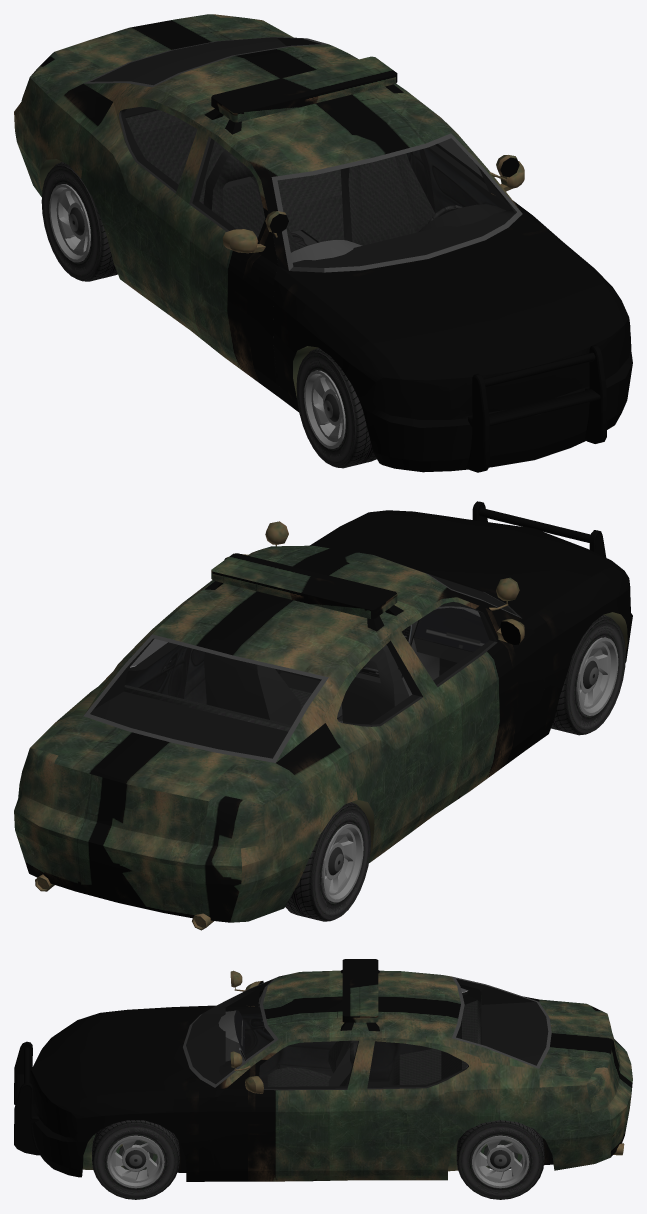
The model's file is PoliceCar_2.FBX.
3 views of the same model, one above another, from view 1: azimuth 30°, elevation 25°; view 2: azimuth 150°, elevation 25°; view 3: azimuth 270°, elevation 25° (orthographic). The views are drawn at different scales.
Parts seen in each view (by area): view 1: Body, Door_FR, Door_BR, Wheel_FR, Wheel_BR, Door_FL, Door_BL; view 2: Body, Door_FR, Door_BR, Wheel_BR, Wheel_FR, Door_BL, Door_FL; view 3: Body, Door_FL, Door_BL, Wheel_FL, Wheel_BL, Door_FR, Door_BR.
Boxes of the visible parts, box(x1,y1,x2,y2) form: Body: box(14, 14, 632, 472); Door_FR: box(173, 128, 278, 383); Door_BR: box(86, 96, 204, 310); Wheel_FR: box(296, 348, 376, 468); Wheel_BR: box(41, 162, 117, 281); Door_FL: box(425, 138, 532, 215); Door_BL: box(406, 149, 434, 211); Body: box(14, 501, 632, 930); Door_FR: box(393, 597, 544, 802); Door_BR: box(325, 632, 445, 845); Wheel_BR: box(285, 802, 371, 921); Wheel_FR: box(551, 615, 625, 735); Door_BL: box(94, 639, 191, 698); Door_FL: box(184, 554, 282, 704); Body: box(14, 959, 632, 1181); Door_FL: box(210, 1036, 367, 1171); Door_BL: box(352, 1037, 481, 1170); Wheel_FL: box(92, 1120, 179, 1199); Wheel_BL: box(456, 1120, 544, 1199); Door_FR: box(225, 981, 336, 1082); Door_BR: box(369, 984, 481, 1081).
Bounding box in the file's own units: 56.53 × 42.1 × 142.
